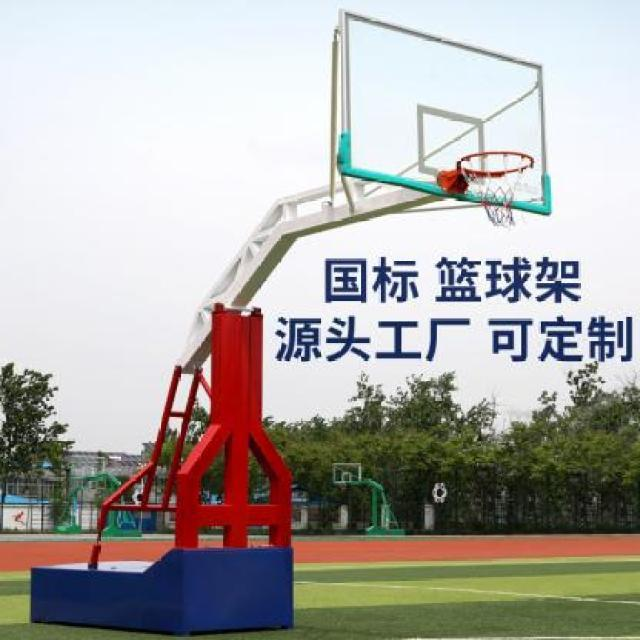rim: (457, 149, 535, 229)
